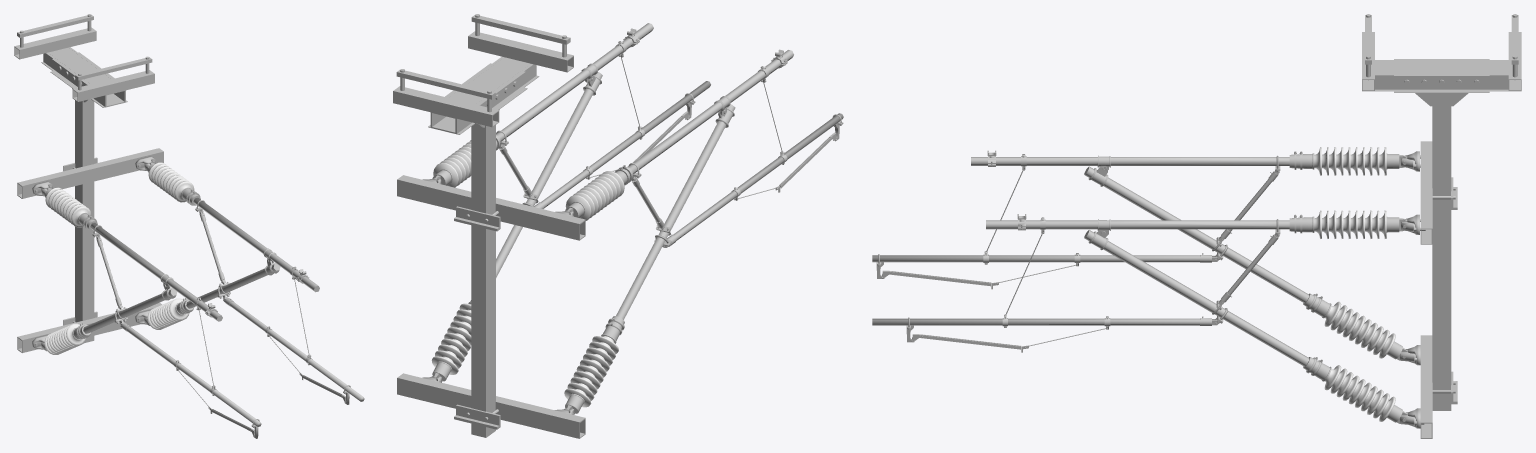
File: gantry_double_2.obj
The picture shows the model from 3 angles, left to right: view 1: azimuth 30°, elevation 25°; view 2: azimuth 150°, elevation 25°; view 3: azimuth 270°, elevation 25°; orthographic projection. The views are drawn at different scales.
Visible parts, largest first — view 1: 1.044, 1.050, 立方体.369, 立方体.182, 1.047, 1.053, 立方体.173, 立方体.175, 立方体.177, 立方体.168, 立方体.165, 立方体.176 (+4 smaller); view 2: 1.044, 立方体.369, 1.050, 立方体.182, 立方体.177, 1.047, 1.053, 立方体.173, 立方体.175, 立方体.168, 立方体.165, 立方体.174 (+6 smaller); view 3: 1.050, 1.044, 立方体.369, 1.053, 1.047, 立方体.168, 立方体.165, 立方体.177, 立方体.182, 1.051, 1.045.
Part boxes in pixels (box(x1,y1,x2,y2)): 1.044: box(44, 188, 261, 426); 1.050: box(147, 163, 364, 401); 立方体.369: box(75, 99, 94, 343); 立方体.182: box(17, 148, 163, 198); 1.047: box(44, 187, 91, 354); 1.053: box(147, 162, 194, 329); 立方体.173: box(14, 27, 96, 59); 立方体.175: box(72, 70, 154, 101); 立方体.177: box(17, 302, 161, 352); 立方体.168: box(45, 47, 114, 85); 立方体.165: box(43, 53, 125, 107); 立方体.176: box(75, 57, 152, 80); 1.044: box(565, 49, 843, 414); 立方体.369: box(471, 124, 495, 437); 1.050: box(432, 23, 710, 382); 立方体.182: box(397, 175, 585, 240); 立方体.177: box(397, 373, 585, 438); 1.047: box(564, 171, 624, 407); 1.053: box(431, 140, 471, 374); 立方体.173: box(393, 86, 499, 127); 立方体.175: box(468, 31, 573, 72); 立方体.168: box(445, 56, 533, 105); 立方体.165: box(430, 64, 536, 134); 立方体.174: box(396, 70, 495, 99); 1.050: box(872, 214, 1407, 423); 1.044: box(872, 150, 1406, 360); 立方体.369: box(1432, 93, 1451, 410); 1.053: box(1314, 210, 1395, 421); 1.047: box(1314, 147, 1395, 358); 立方体.168: box(1375, 59, 1508, 76); 立方体.165: box(1375, 75, 1508, 89); 立方体.177: box(1420, 335, 1432, 438); 立方体.182: box(1420, 141, 1432, 244); 1.051: box(906, 316, 1110, 352); 1.045: box(876, 253, 1080, 289).
Bounding box in the file's own units: 1.72 × 3.42 × 5.41.
